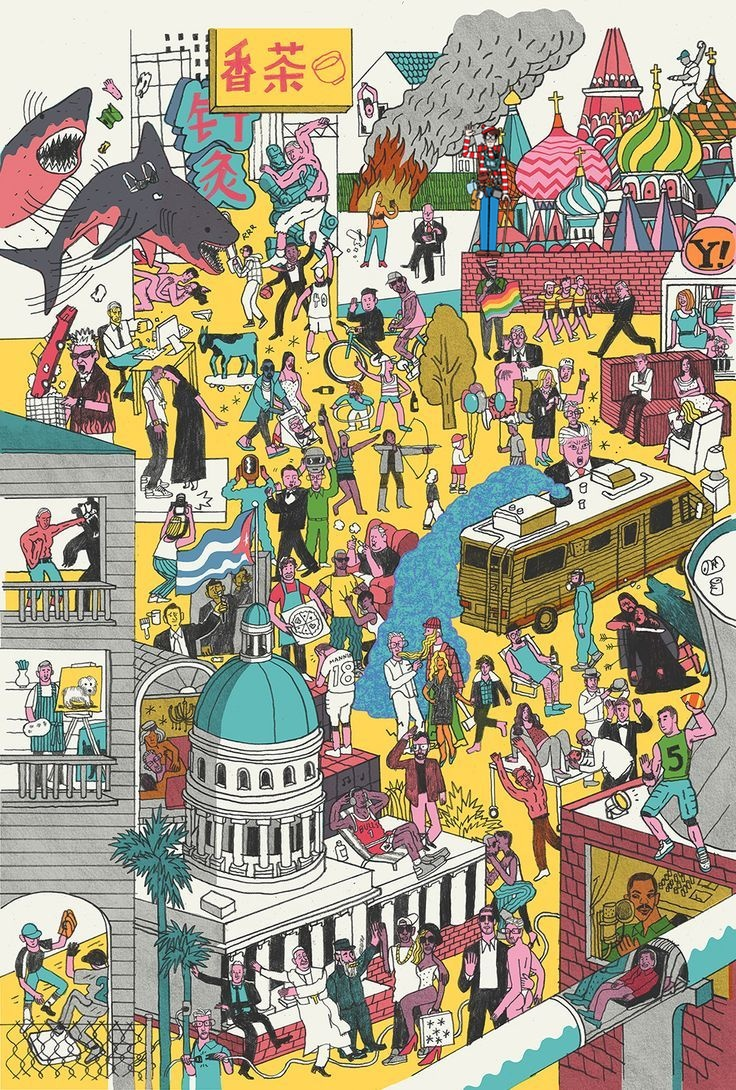waldo: (462, 123, 512, 258)
